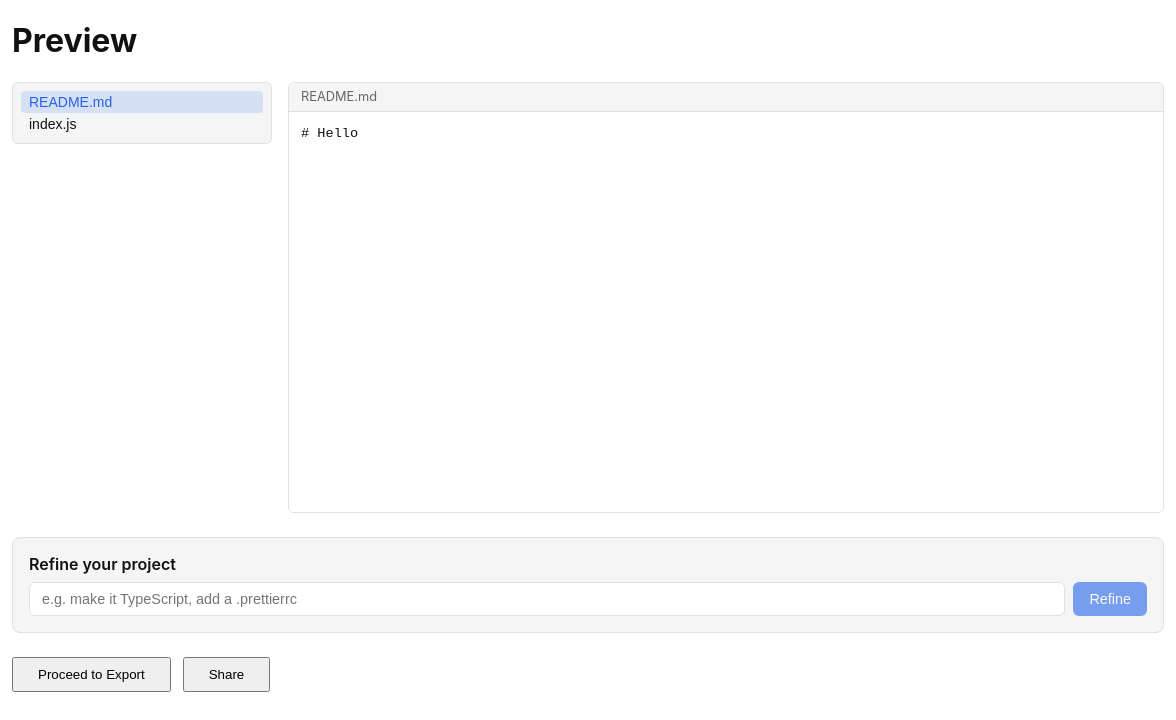
Test: PreviewPage › clicking a filename opens its content in the editor panel
Click the button "index.js" at {"x": 142, "y": 124}, box [21, 113, 263, 135]
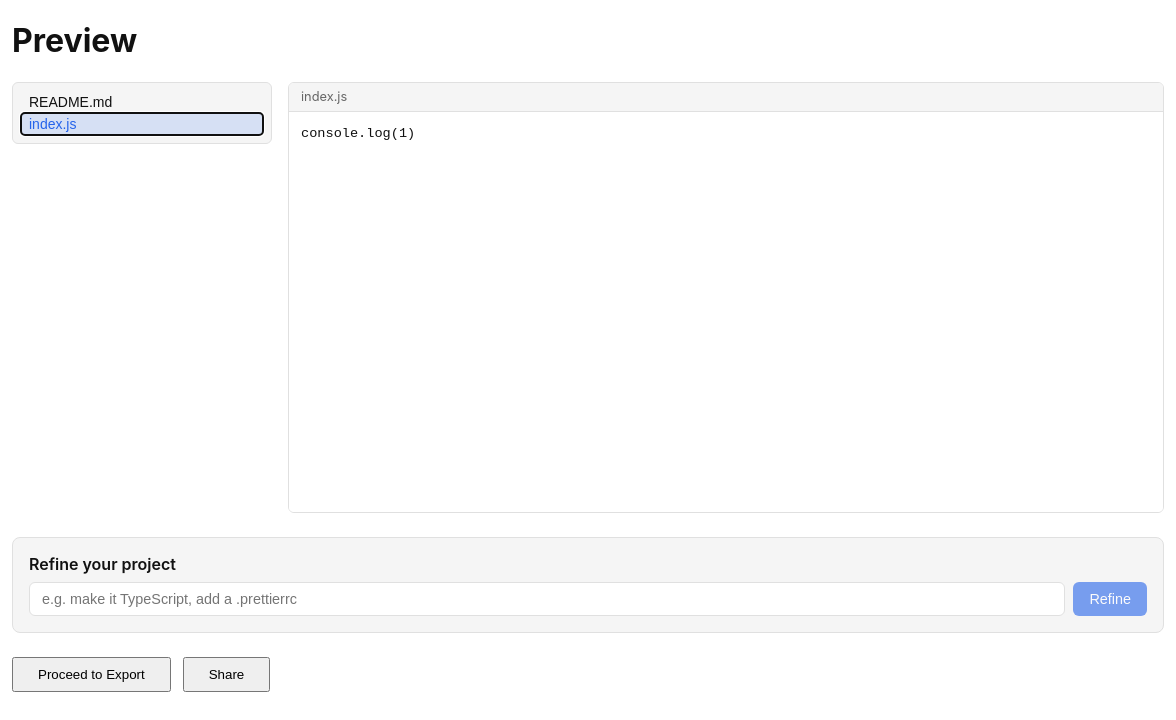
Expected: the text box named "file editor" holds "console.log(1)", [289, 112, 1163, 512]
